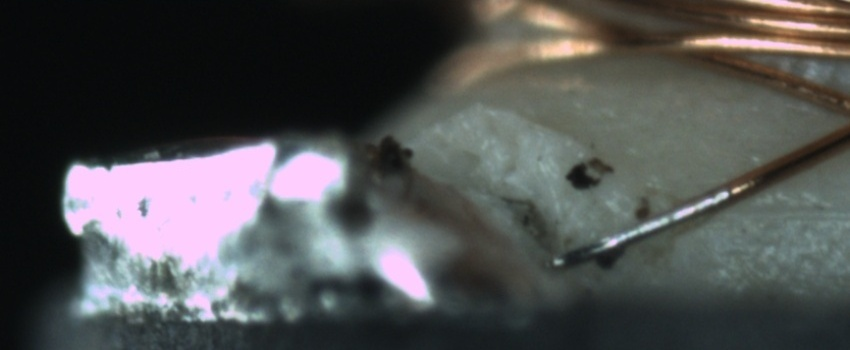DL: (706, 173, 849, 237)
TS: (550, 186, 733, 271)
